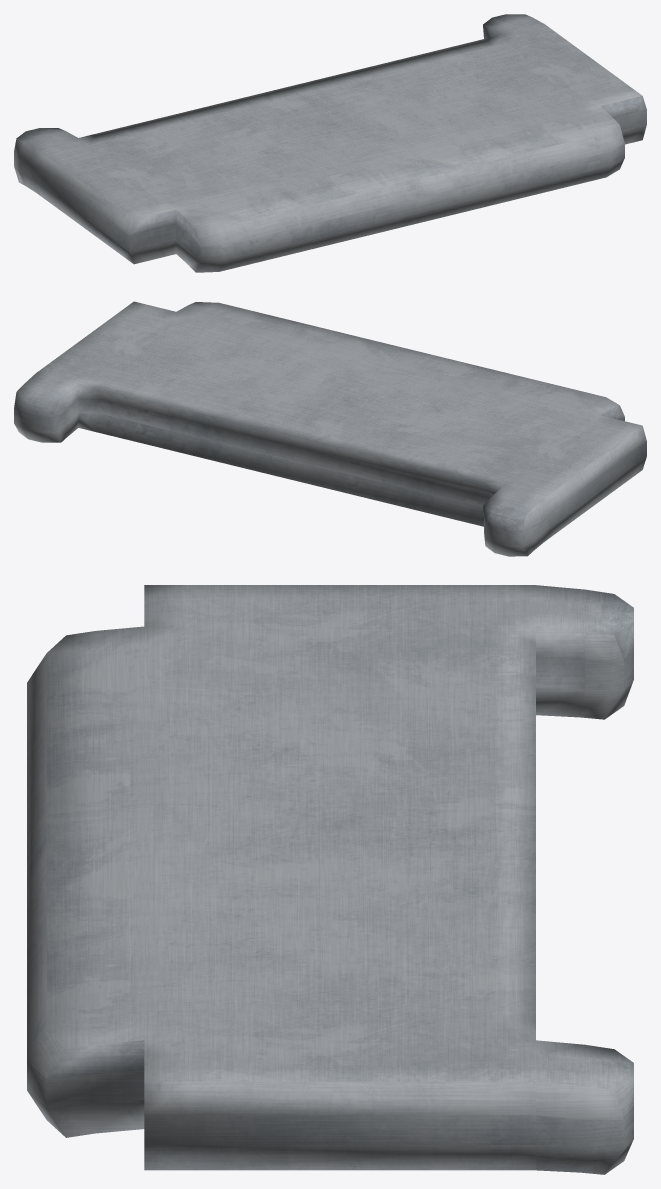
The model's file is Watch-Band-Part.obj.
3 renders of one model, top to bottom at view 1: azimuth 30°, elevation 25°; view 2: azimuth 150°, elevation 25°; view 3: azimuth 270°, elevation 25°, orthographic. The views are drawn at different scales.
Parts seen in each view (by area): view 1: Watch-Band-Part; view 2: Watch-Band-Part; view 3: Watch-Band-Part.
Boxes of the visible parts, left/top/right/bottom form: Watch-Band-Part: left=14, top=14, right=646, bottom=272; Watch-Band-Part: left=14, top=301, right=646, bottom=556; Watch-Band-Part: left=27, top=585, right=633, bottom=1174.
Size of the model in its own units: 1.22 by 0.11 by 0.62.
